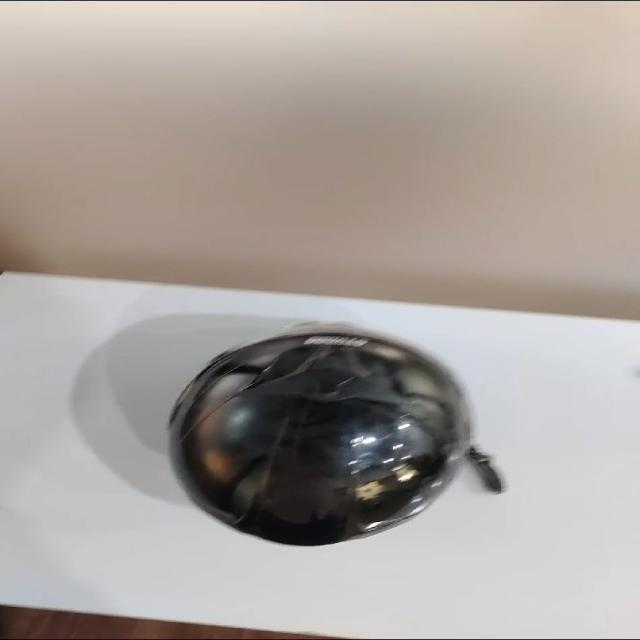helmet: (170, 328, 501, 546)
